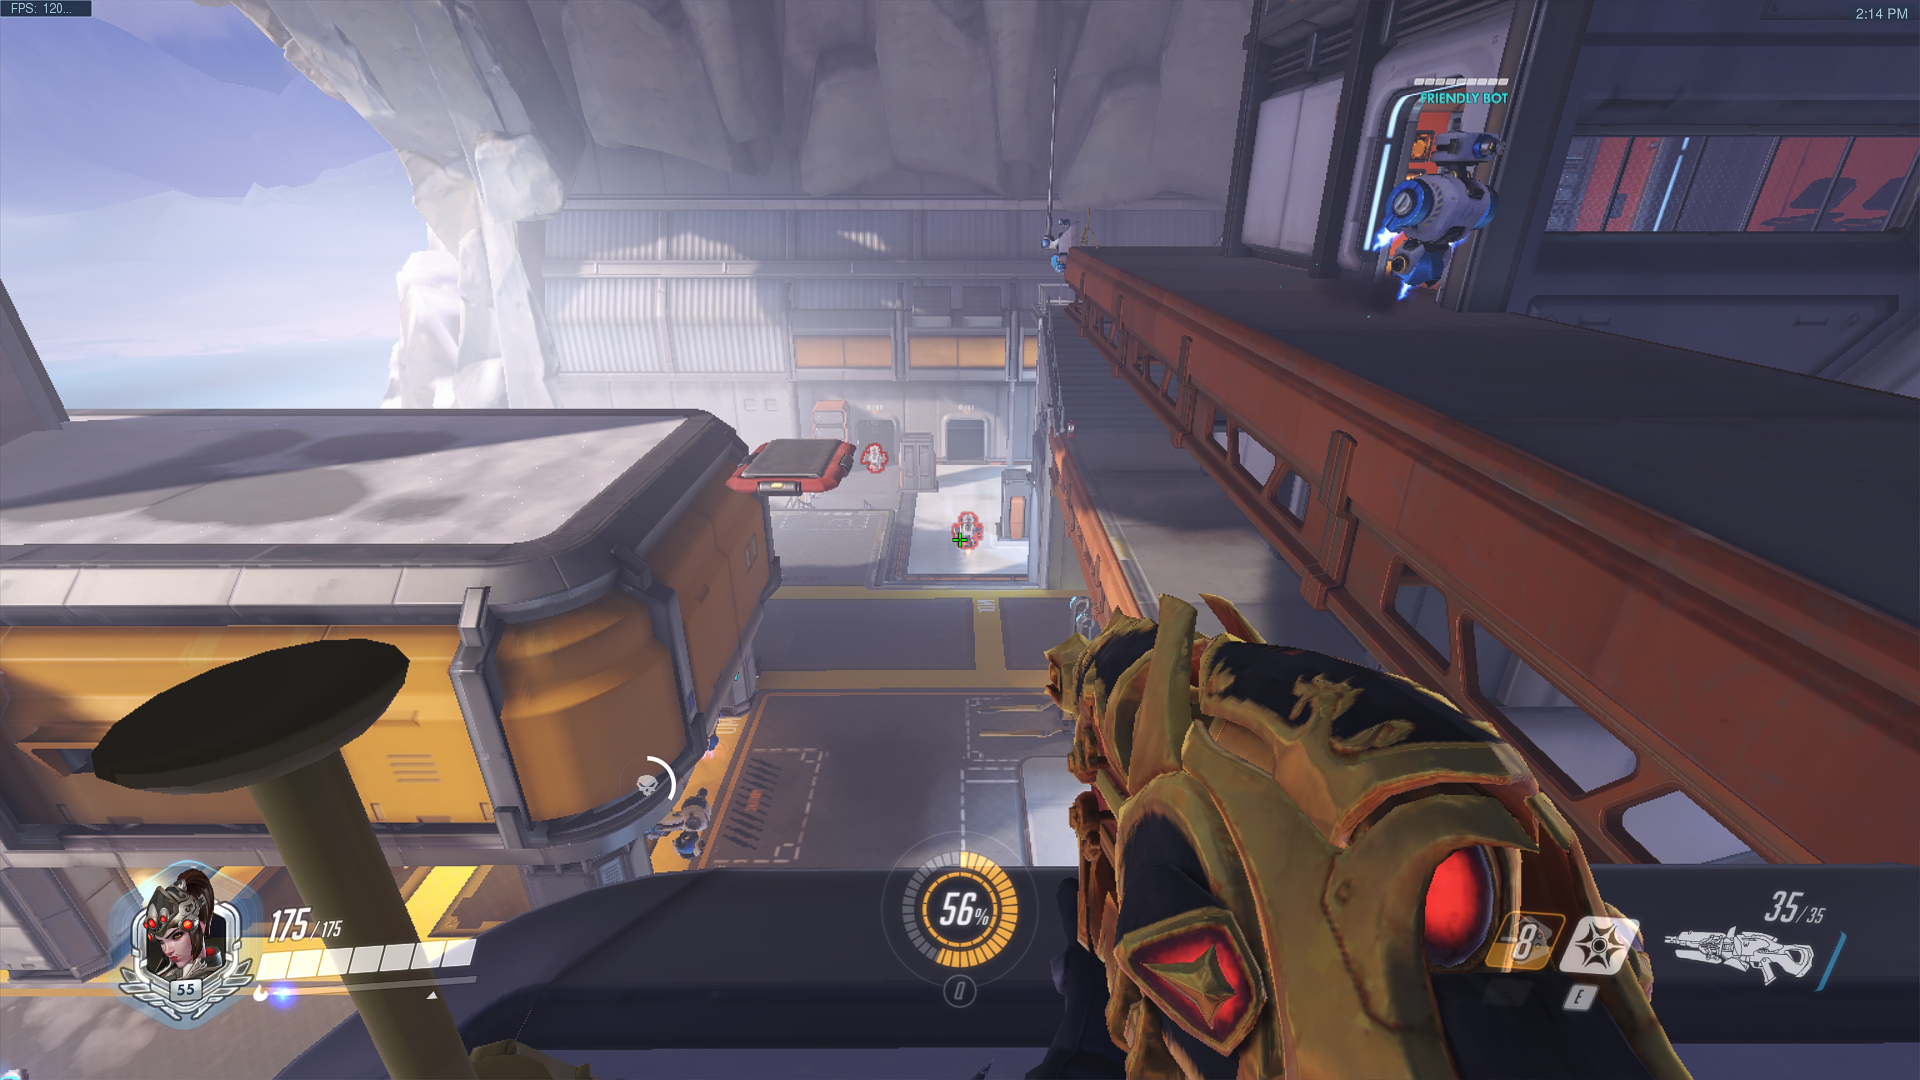head: (1431, 130, 1496, 174), (859, 444, 883, 456), (958, 510, 976, 525)
